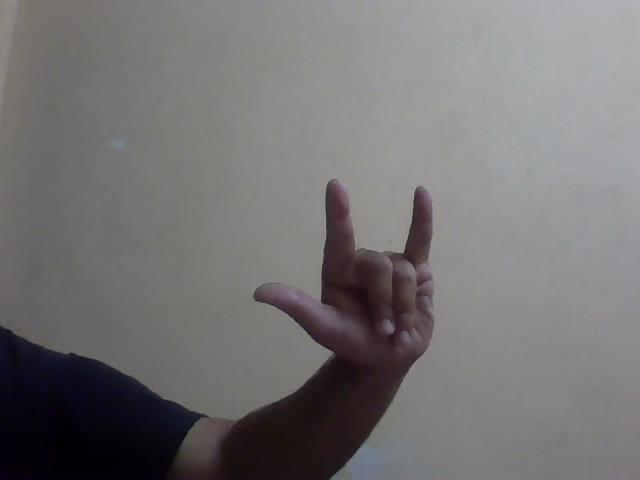I love you: (240, 171, 470, 387)
